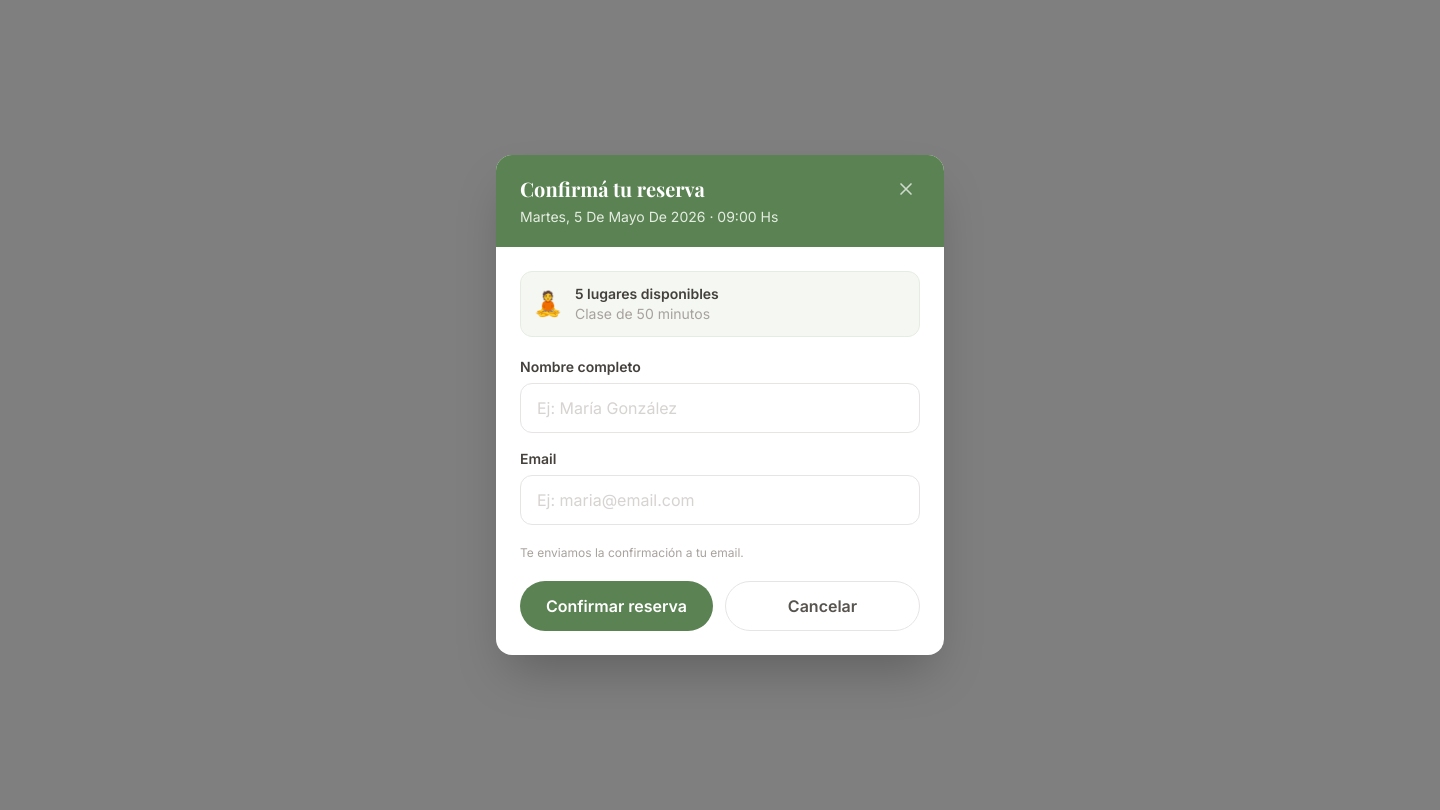
Test: ReservationModal — form validation › shows required errors when submitting empty form
The image size is (1440, 810).
Click the button "Confirmar reserva" at point(616, 606), box [520,581,713,631]
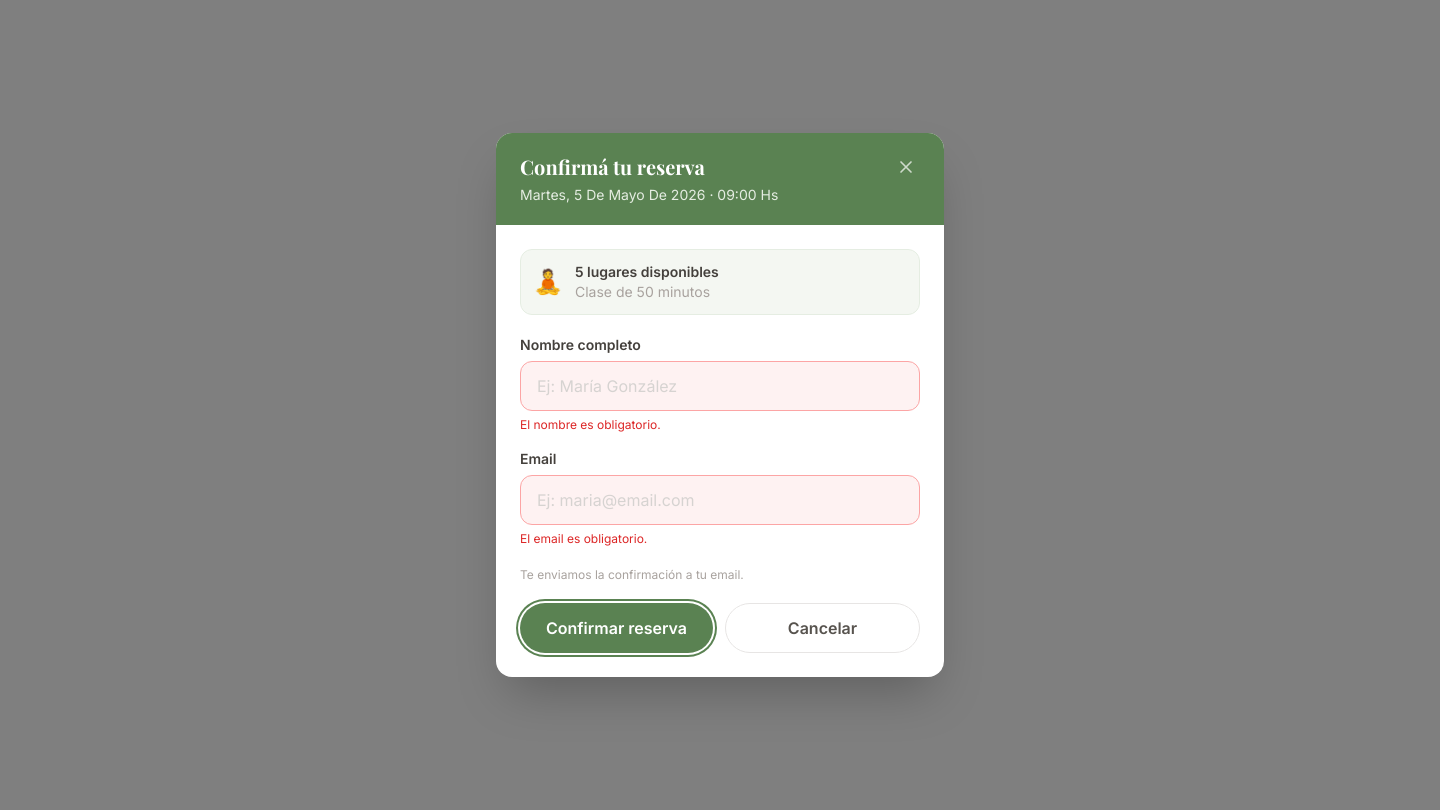
Result: the text "El nombre es obligatorio." is shown at [520,417,661,432]
Result: the text "El email es obligatorio." is shown at [520,531,647,546]
